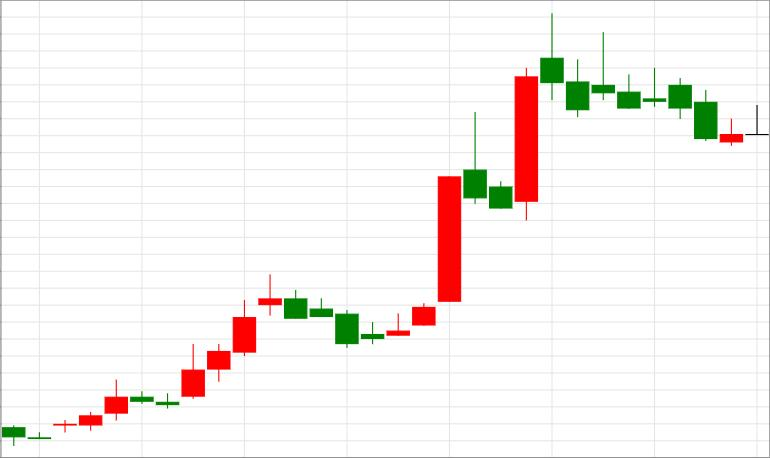shooting_star_fall: (387, 15, 563, 337)
